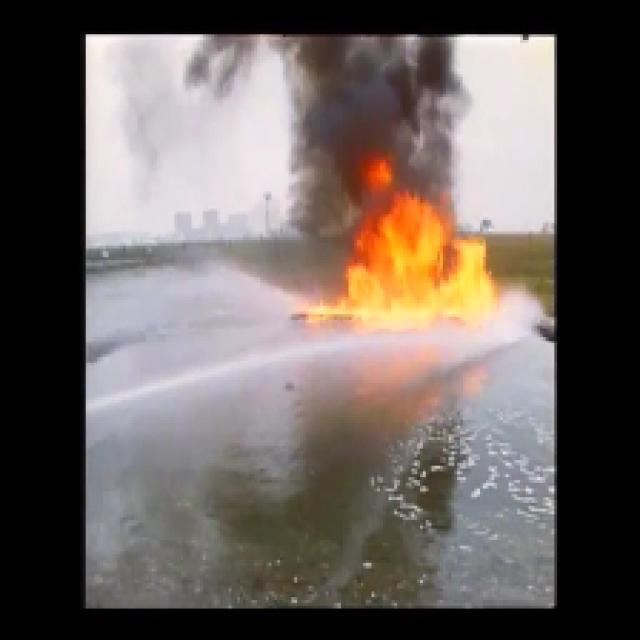fire: (345, 211, 484, 324)
smoke: (303, 57, 446, 194)
